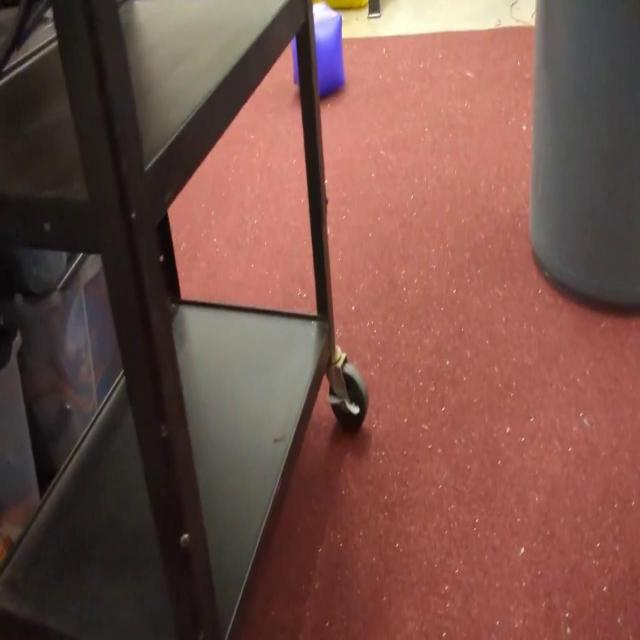frc_cube: (290, 2, 346, 97)
